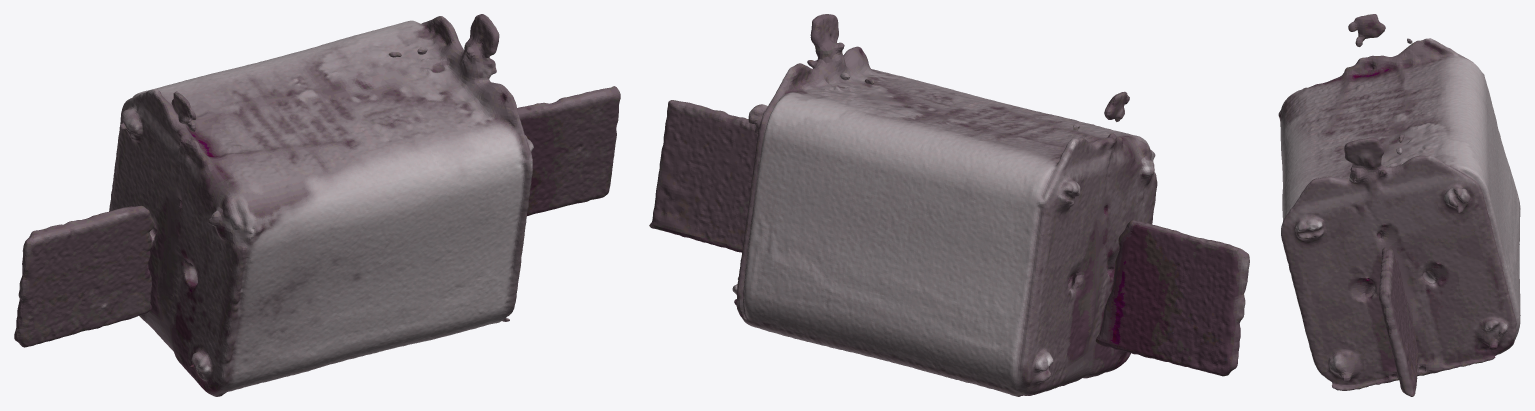
The model's file is scene_mobile.glb.
3 renders of one model, left to right at view 1: azimuth 30°, elevation 25°; view 2: azimuth 150°, elevation 25°; view 3: azimuth 270°, elevation 25°, orthographic. The views are drawn at different scales.
Size of the model in its own units: 139 by 66.67 by 57.12.
